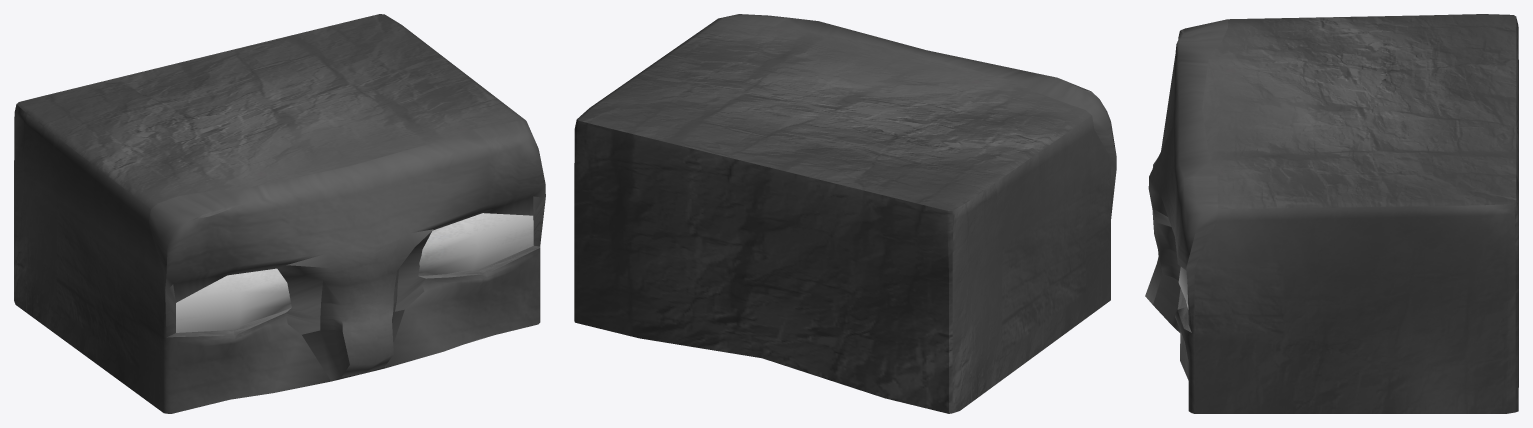
Rendered from Lift.fbx.
3 views of the same model, side by side, from view 1: azimuth 30°, elevation 25°; view 2: azimuth 150°, elevation 25°; view 3: azimuth 270°, elevation 25° (orthographic). The views are drawn at different scales.
Parts seen in each view (by area): view 1: polySurface12, polySurface11, polySurface10; view 2: polySurface12; view 3: polySurface12.
Part boxes in pixels (x1=…): polySurface12: x1=14, y1=14, x2=545, y2=413; polySurface11: x1=418, y1=213, x2=533, y2=276; polySurface10: x1=176, y1=268, x2=291, y2=332; polySurface12: x1=574, y1=14, x2=1116, y2=413; polySurface12: x1=1145, y1=14, x2=1518, y2=413.
Bounding box in the file's own units: 1.4 × 0.7124 × 1.13.
2 materials, 2 textured.
